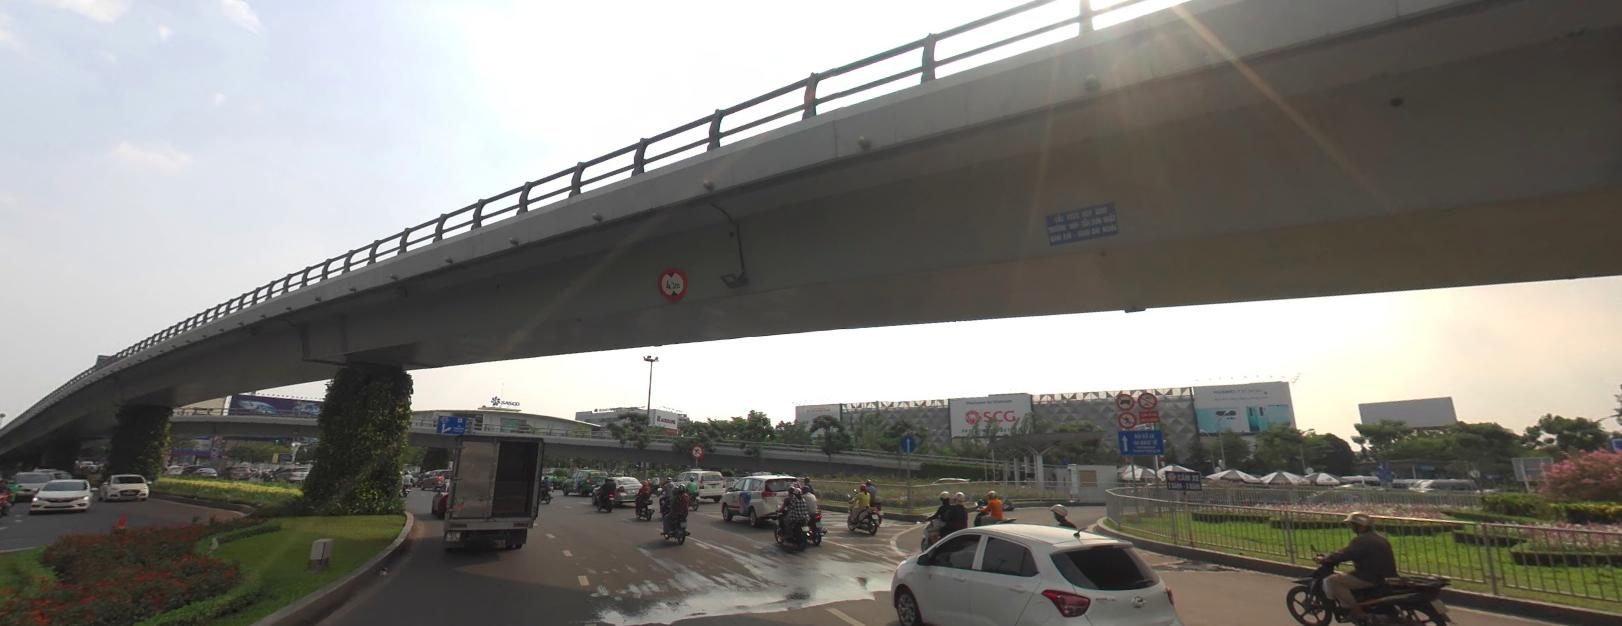Cam con lai: (657, 267, 687, 301), (1117, 410, 1136, 427), (1137, 391, 1155, 408), (1116, 392, 1133, 408)
Cam re: (690, 443, 702, 457)
Hieu lenh: (900, 433, 915, 451)
